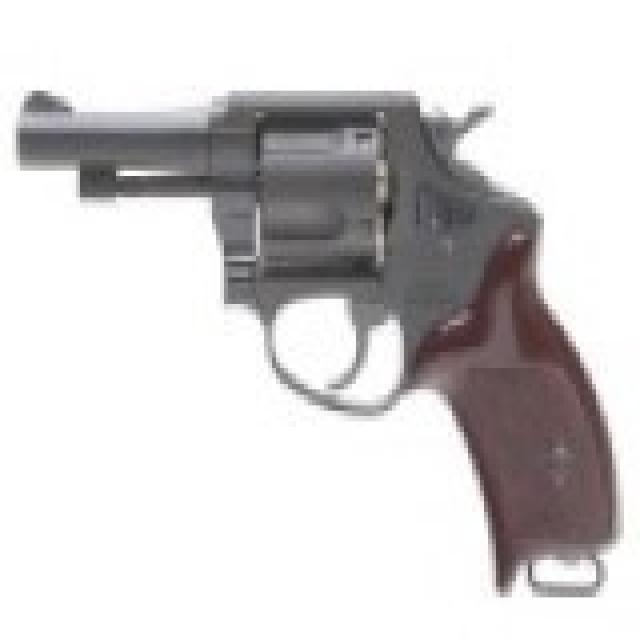gun: (10, 76, 631, 601)
